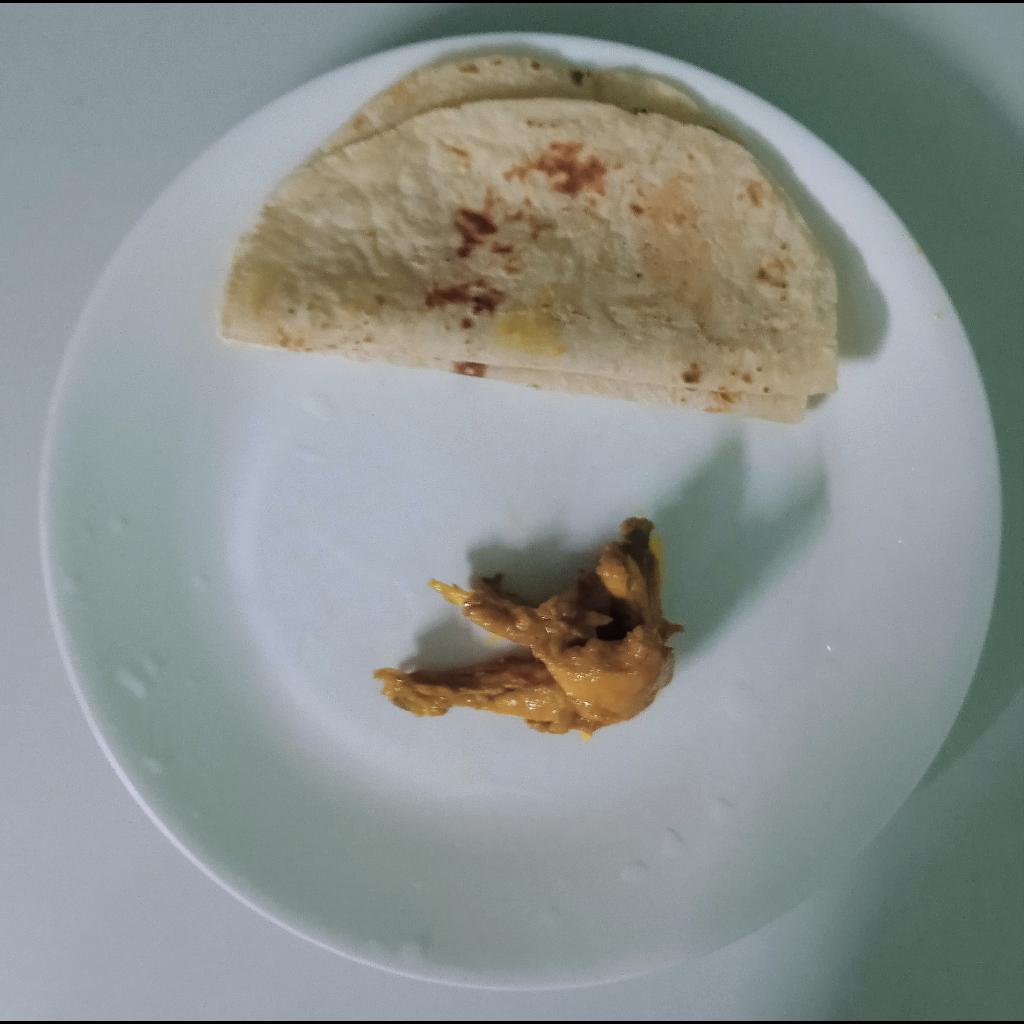chicken: (371, 517, 678, 734)
ruti: (217, 56, 837, 427)
